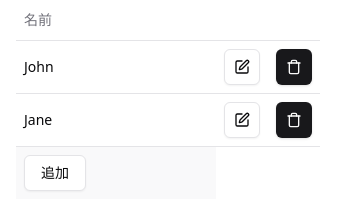
it: ClientPurchasersTable › 購入者が編集されるとAPIリクエストが正しく送信される
Click the button named "Edit" in the row of "John".
click(242, 66)  # box [224,48,260,84]
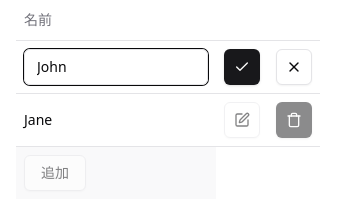
Result: the field is shown
Type " (edited)" into the field.
click(116, 66); type(" (edited)")  # box [24,48,208,84]
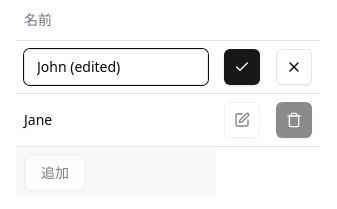
Click the button named "Save".
click(242, 66)  # box [224,48,260,84]
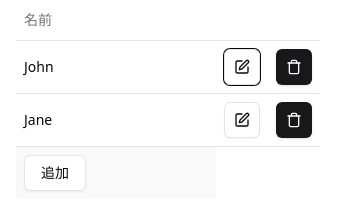
Result: the field is gone
